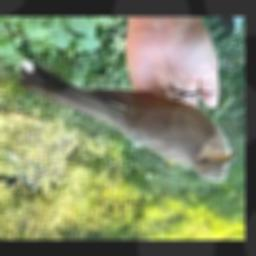Cuckoo: (18, 59, 239, 182)
